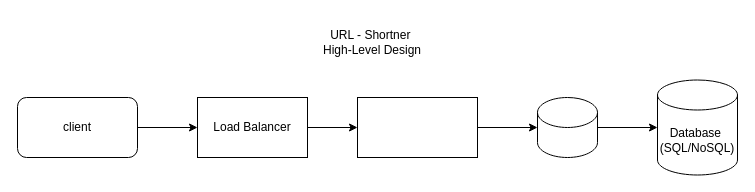
The diagram is 755 pixels wide and 192 high, and some of its shapes have lost their labels. Here are the shapes that lost their labels. From the top down, the centre of each, then its label:
At (x=417, y=127): "App Server (Node.js )".
At (x=567, y=127): "Cache (Radis)".
